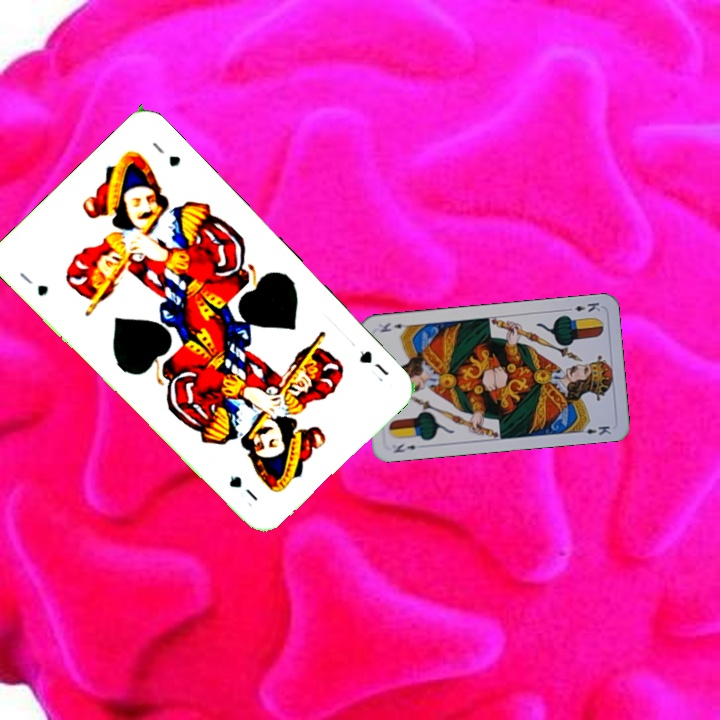EK: (562, 298, 603, 314), (390, 439, 418, 456)
GU: (355, 346, 392, 385), (15, 268, 51, 299)
